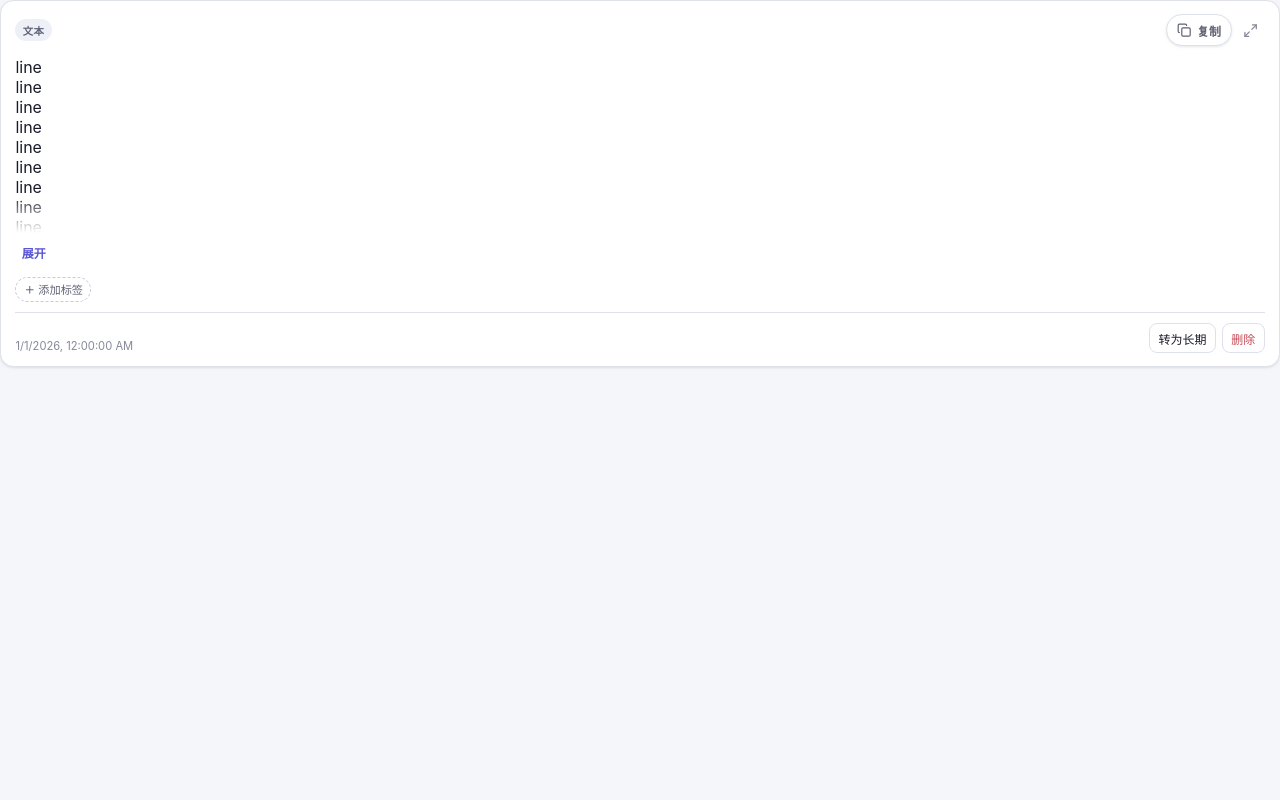
MessageCard › folds overflowing plain text using measured DOM height and toggles without opening detail
Click the button with class "expand-button". click: [34, 253]
box: top-left (15, 239), bottom-right (52, 267)
(page scrolled)
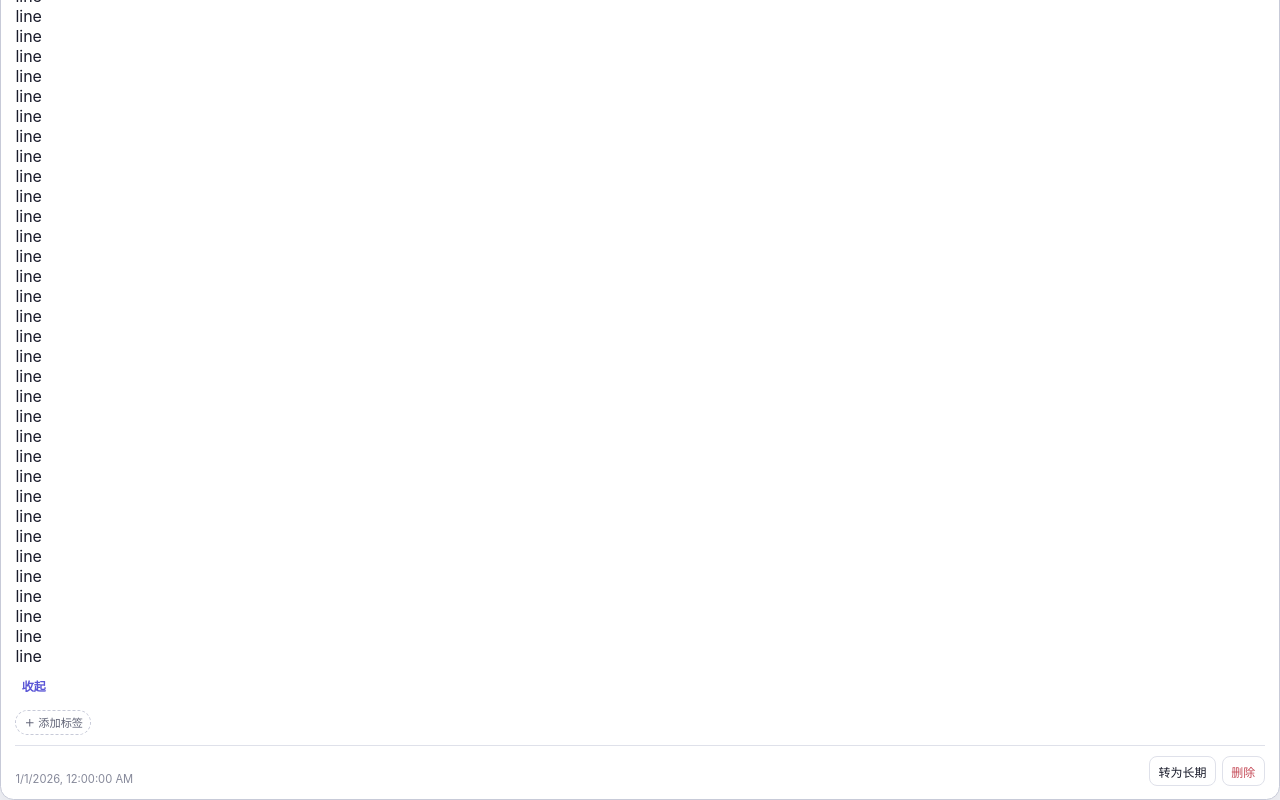
expect the button with class "expand-button" reads "收起": met
Click the button with class "expand-button". click: [34, 686]
box: top-left (15, 672), bottom-right (52, 700)
(page scrolled)
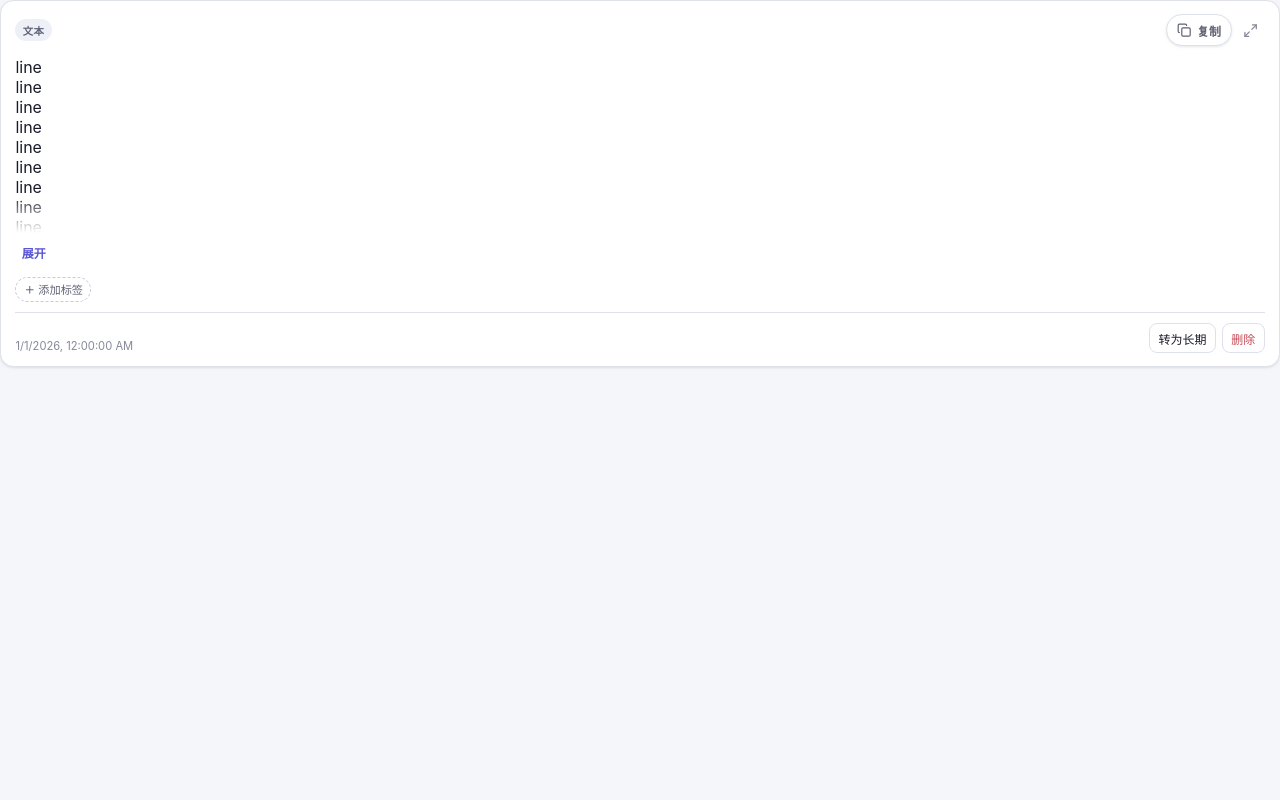
expect the button with class "expand-button" reads "展开": met, box top-left (15, 239), bottom-right (52, 267)
